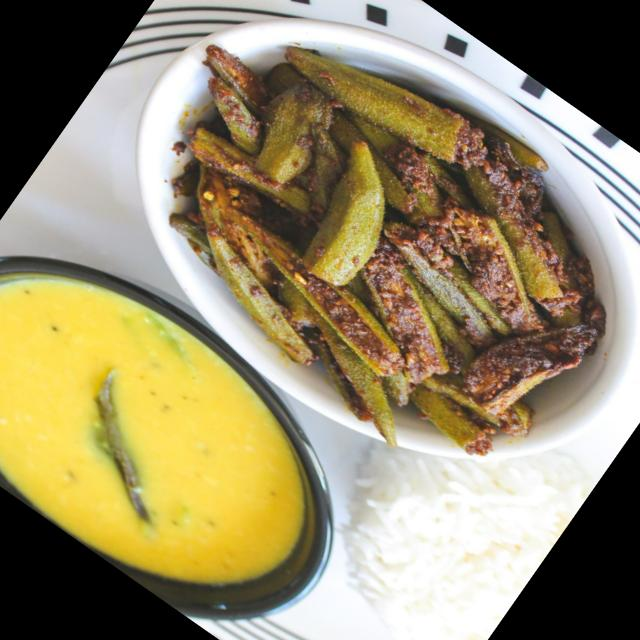BhindiMasala: (79, 0, 640, 509)
